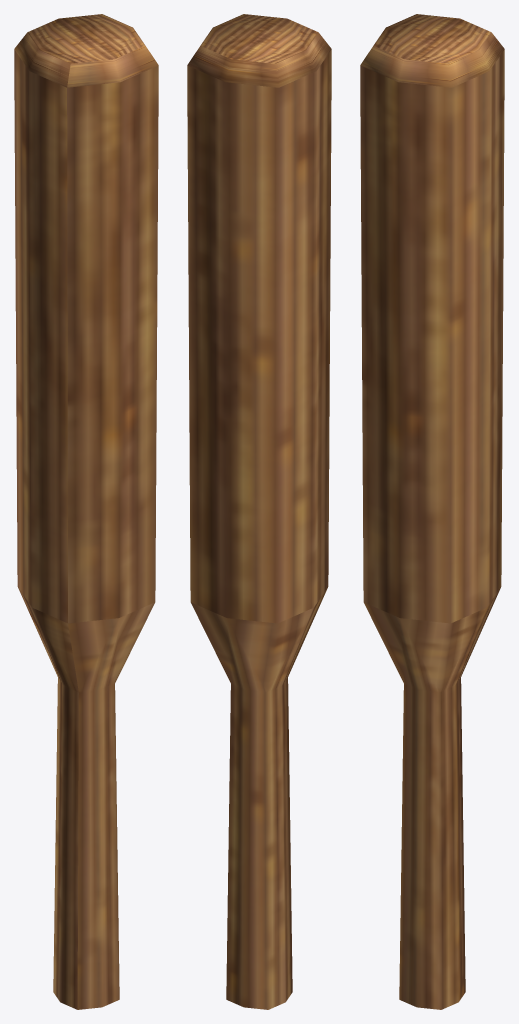
File: maya_maca.dae
3 renders of one model, left to right at view 1: azimuth 30°, elevation 25°; view 2: azimuth 150°, elevation 25°; view 3: azimuth 330°, elevation 25°, orthographic.
Parts seen in each view (by area): view 1: maya_maca; view 2: maya_maca; view 3: maya_maca.
Boxes of the visible parts, box(x1,y1,x2,y2) form: maya_maca: box(14, 14, 158, 1009); maya_maca: box(187, 14, 331, 1009); maya_maca: box(360, 14, 504, 1009).
Size of the model in its own units: 0.312 by 0.3227 by 2.5.
Materials: 1 (1 with a texture image).
